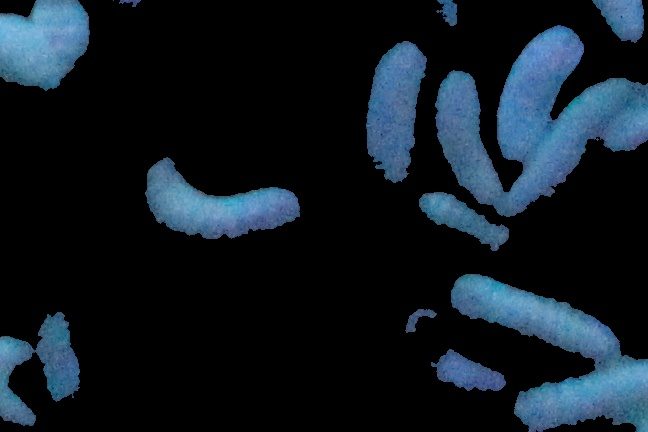larvae: (454, 273, 616, 363), (143, 154, 299, 243), (515, 77, 627, 199), (495, 29, 583, 166), (364, 39, 432, 202), (515, 362, 648, 431), (435, 69, 500, 208), (401, 306, 506, 392), (25, 287, 90, 409), (29, 1, 90, 96), (418, 193, 512, 253), (1, 333, 46, 424)
